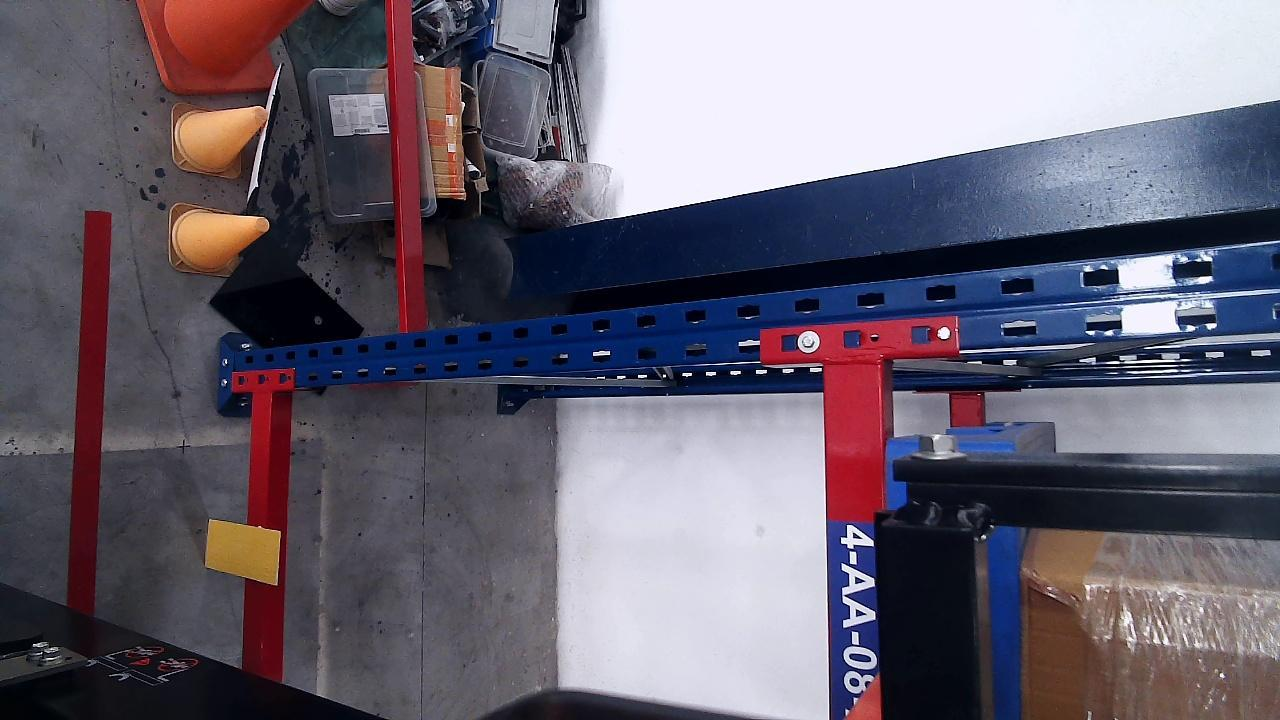h_rack: (820, 358, 883, 720), (240, 390, 272, 681)
orange_strip: (205, 519, 282, 583)
red_line: (70, 211, 112, 612)
